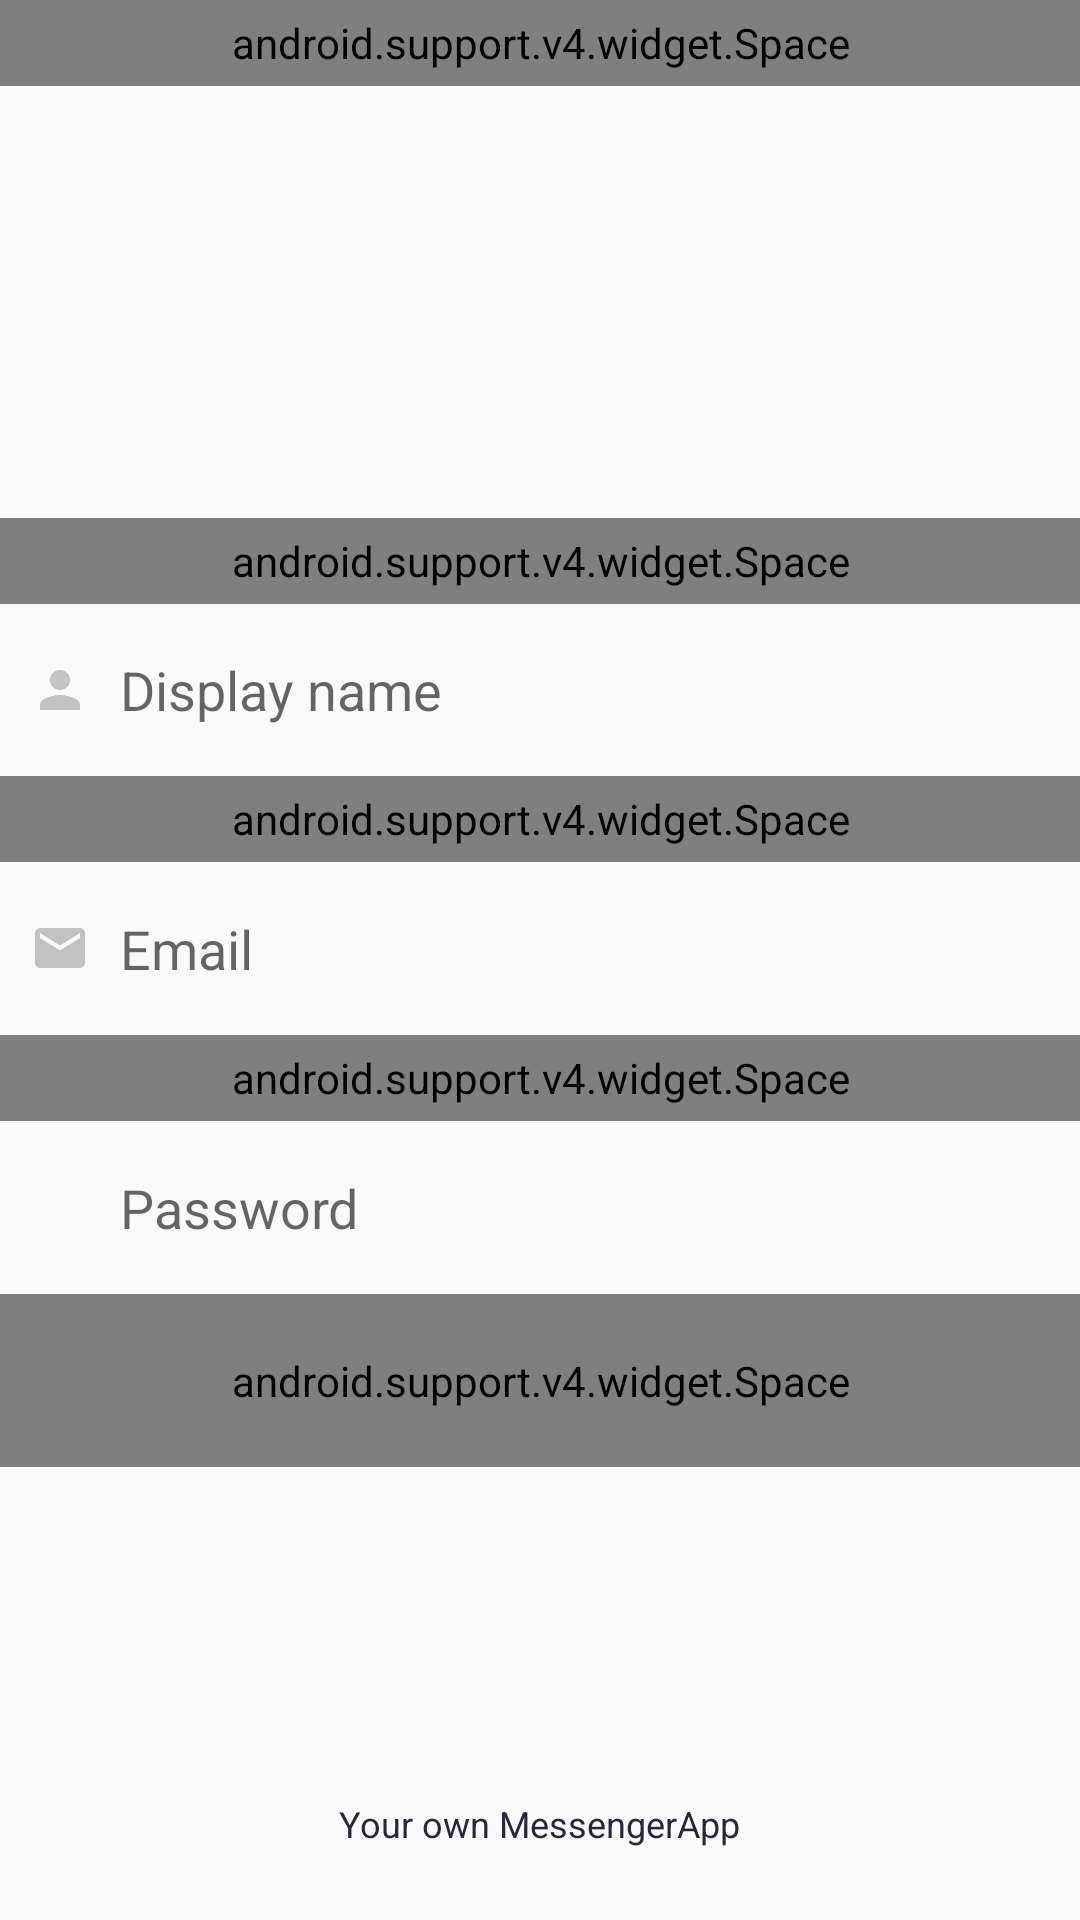

Named icons in this screenshot (1080*1920) and their centers, (x,y):
person: (60,690)
